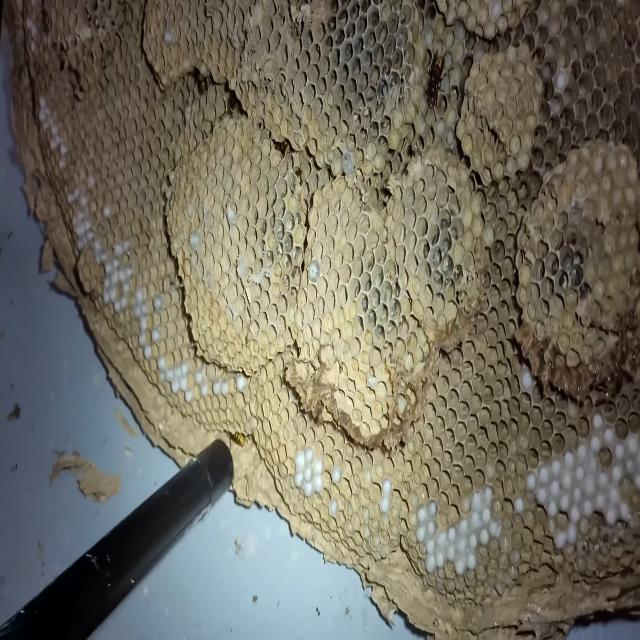Hornets: (422, 48, 447, 122)
